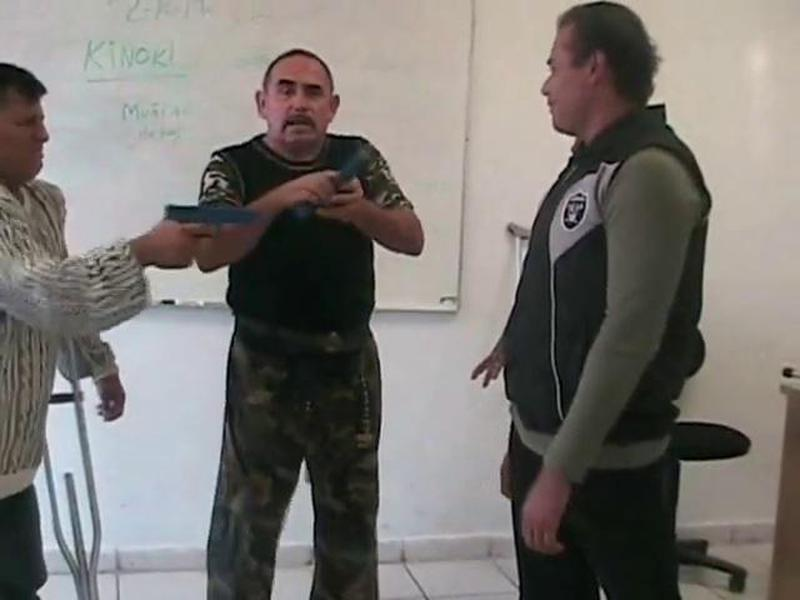Pistola: (151, 186, 265, 257)
